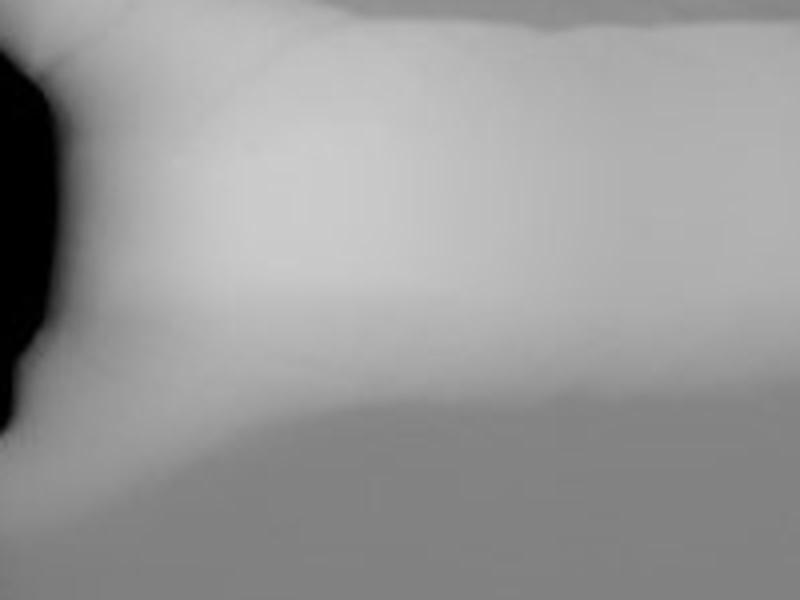defect: (3, 51, 62, 439)
